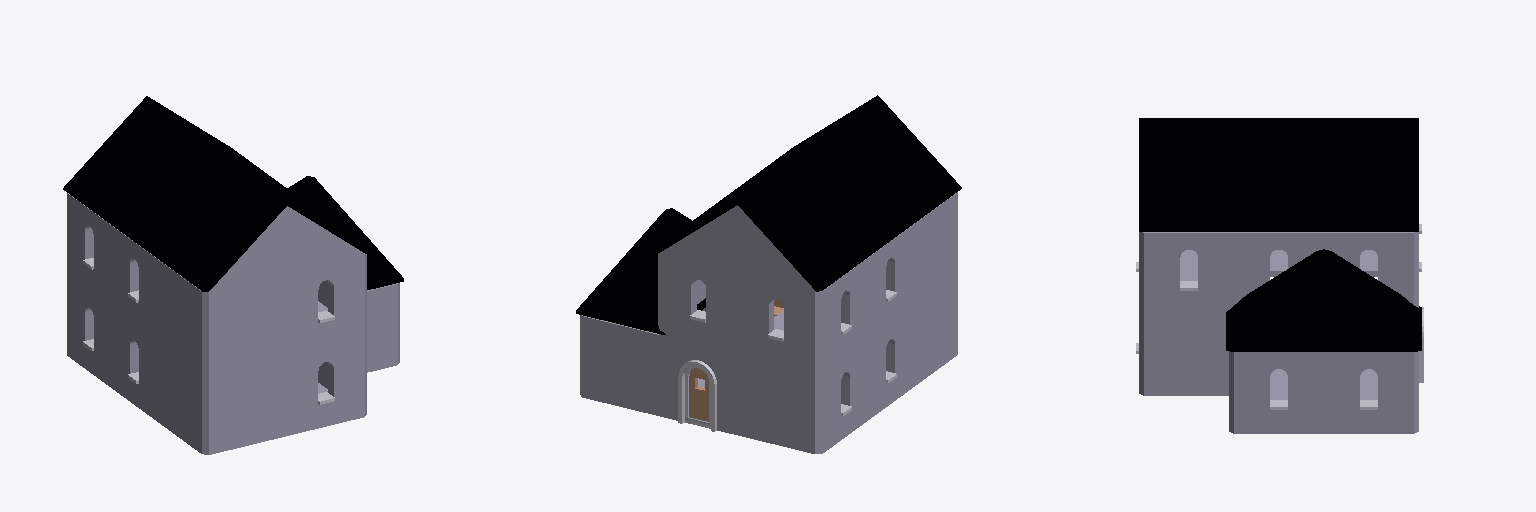
File: House8.obj
3 views of the same model, side by side, from view 1: azimuth 30°, elevation 25°; view 2: azimuth 150°, elevation 25°; view 3: azimuth 270°, elevation 25° (orthographic).
Size of the model in its own units: 3.2 by 2.92 by 3.21.